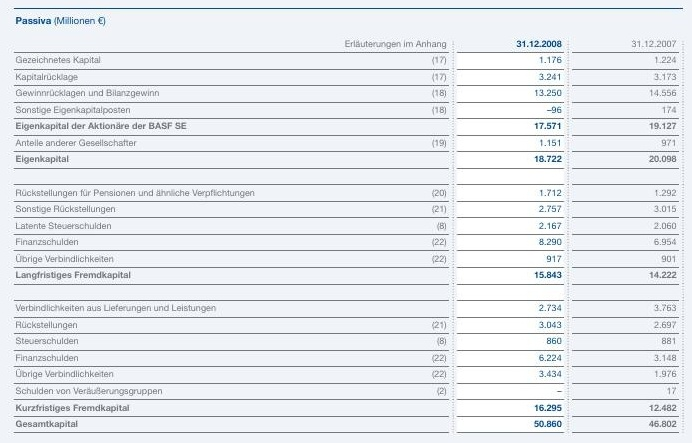table: (0, 0, 692, 443)
